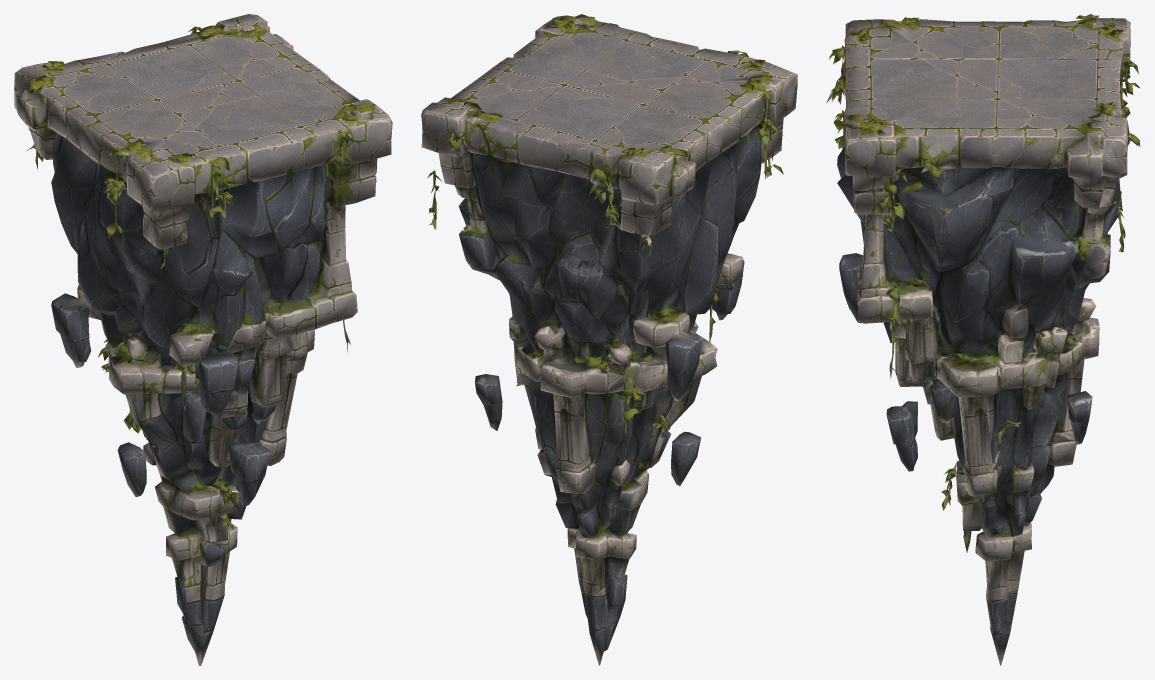
Rendered from SM_FloatingPlatform.fbx.
3 views of the same model, side by side, from view 1: azimuth 30°, elevation 25°; view 2: azimuth 150°, elevation 25°; view 3: azimuth 270°, elevation 25° (orthographic). The views are drawn at different scales.
Parts seen in each view (by area): view 1: Mesh_0; view 2: Mesh_0; view 3: Mesh_0.
Boxes of the visible parts, x1,y1,x2,y2 form: Mesh_0: (14, 14, 392, 665); Mesh_0: (421, 14, 797, 665); Mesh_0: (826, 14, 1140, 665).
Size of the model in its own units: 90.47 by 190 by 91.53.
1 material, 1 textured.
